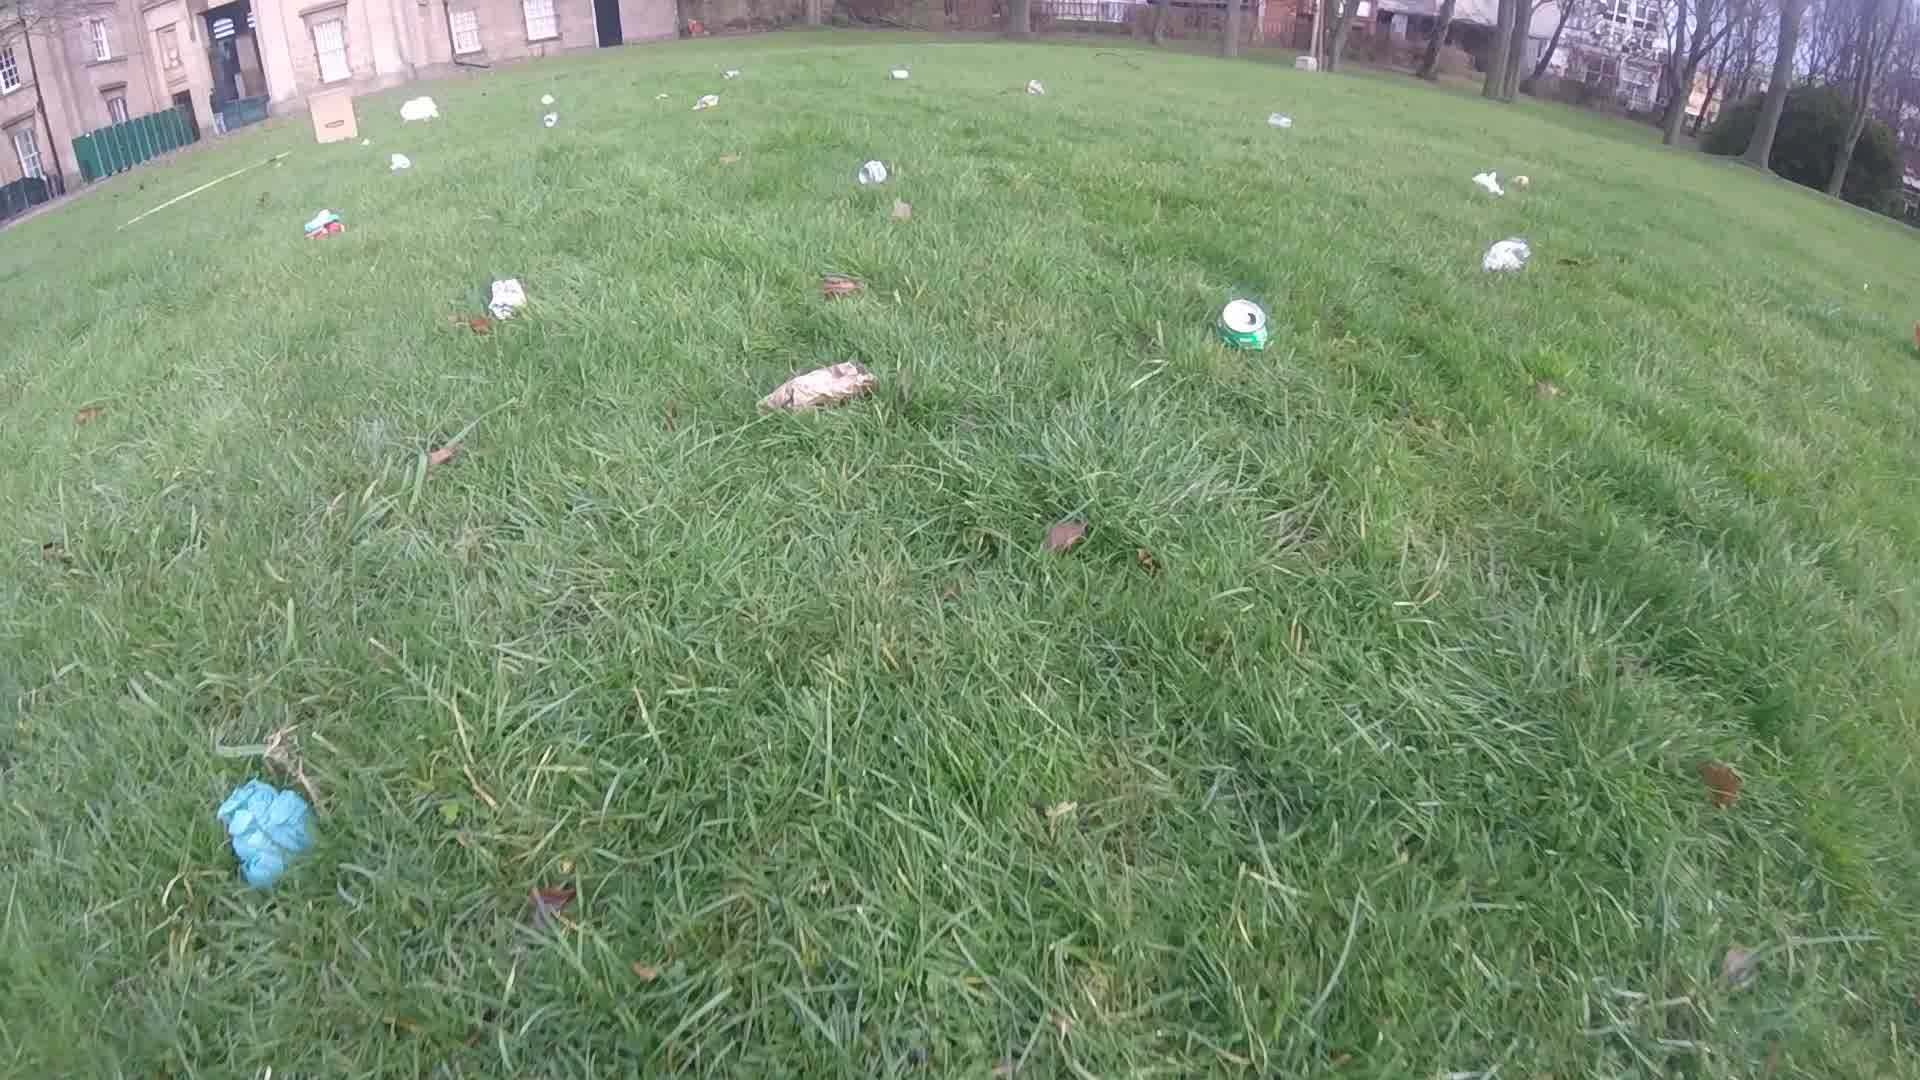litter: (216, 779, 315, 886), (757, 359, 873, 413), (306, 87, 360, 144), (1215, 297, 1266, 351), (1481, 236, 1530, 272), (487, 276, 524, 319), (305, 207, 338, 241), (398, 95, 439, 121), (855, 158, 889, 185), (1469, 171, 1505, 195), (1265, 109, 1290, 131), (692, 92, 719, 112), (386, 149, 409, 171), (1025, 78, 1048, 96), (539, 112, 558, 129), (1511, 173, 1528, 189), (539, 92, 558, 105), (887, 69, 907, 76), (725, 70, 738, 79), (361, 137, 371, 146)
